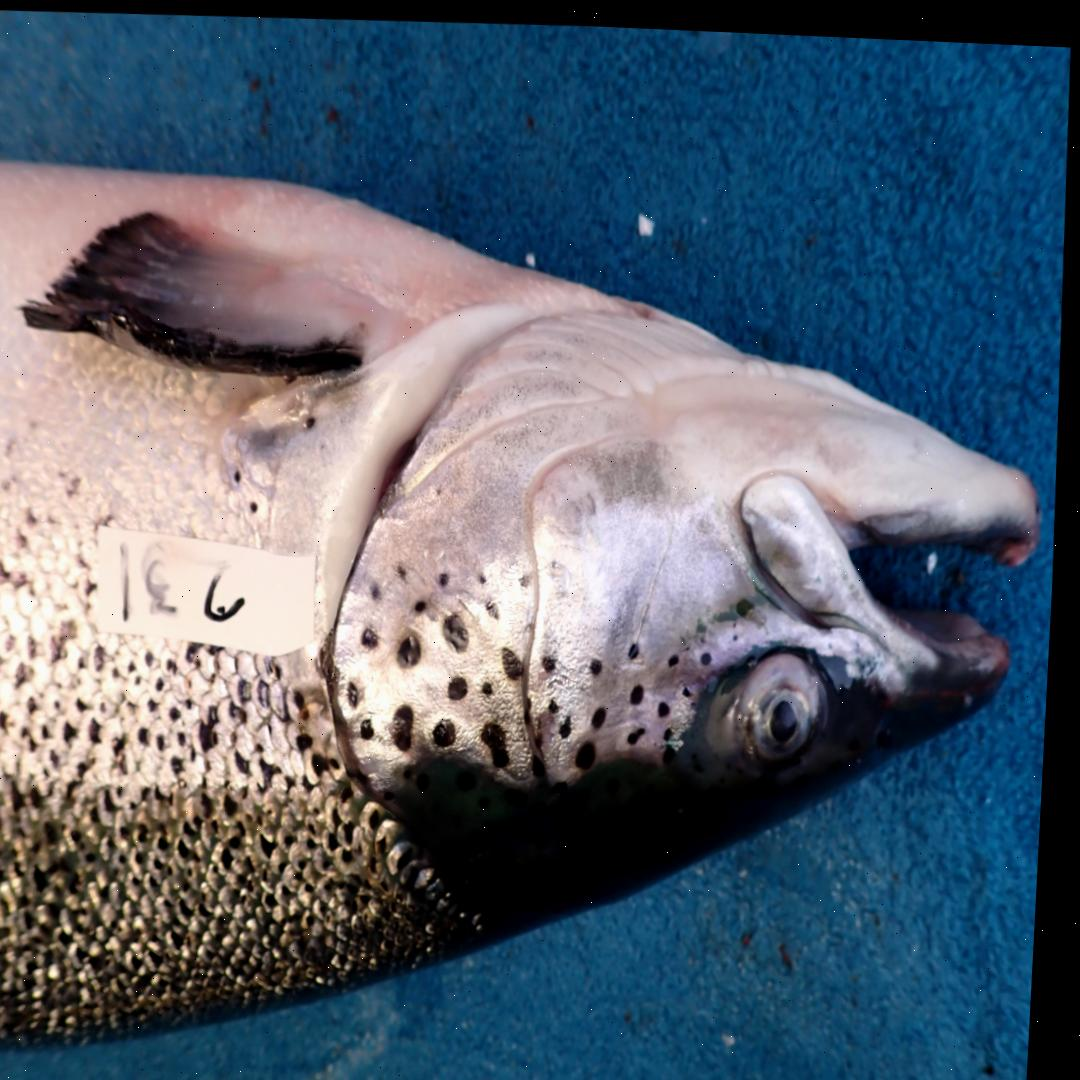spot: (489, 717, 517, 763), (448, 610, 474, 647), (400, 701, 420, 747), (404, 629, 426, 664), (508, 642, 530, 674), (439, 713, 463, 742), (584, 736, 601, 762), (353, 677, 369, 703), (453, 673, 473, 693), (368, 623, 385, 646), (634, 720, 652, 740), (669, 720, 686, 741), (741, 591, 759, 609), (598, 702, 613, 722), (538, 750, 553, 770), (547, 649, 562, 669), (565, 710, 578, 733), (418, 594, 434, 612), (637, 679, 650, 699), (368, 715, 381, 735), (687, 680, 702, 697), (402, 559, 415, 577), (375, 576, 386, 597), (492, 596, 505, 613), (597, 652, 608, 670), (634, 636, 645, 653), (443, 566, 454, 583), (665, 694, 676, 711), (482, 567, 495, 581), (555, 692, 566, 707), (673, 648, 686, 660), (488, 677, 499, 691), (525, 569, 535, 582), (707, 646, 716, 657)
